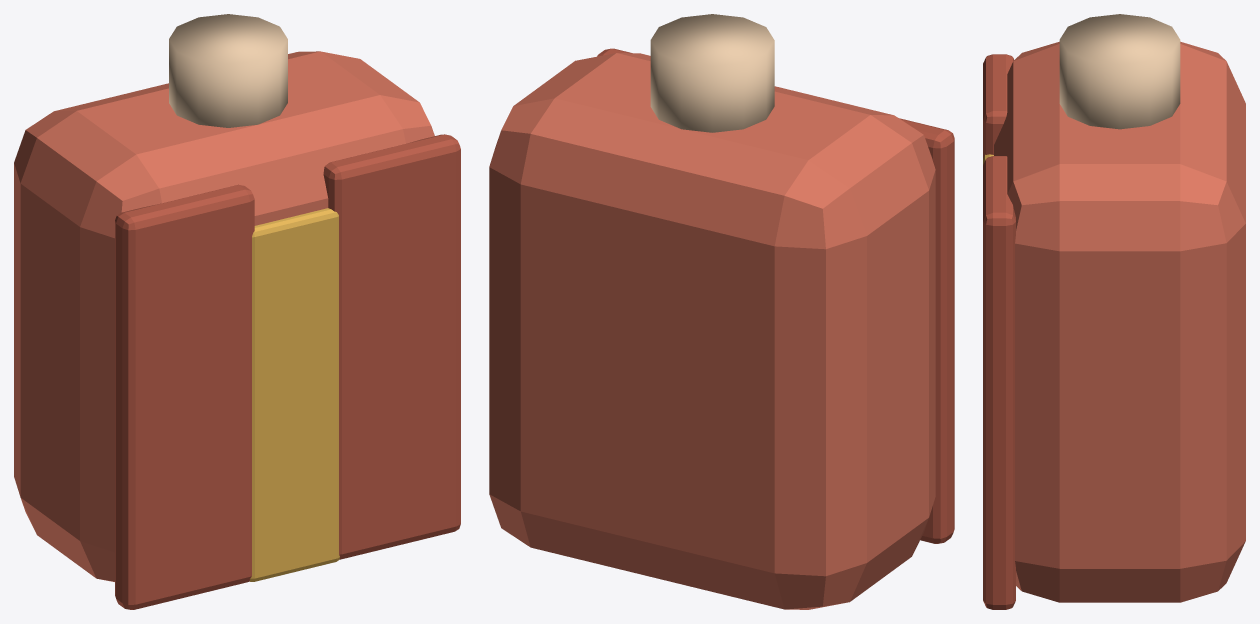
File: fig_torso_jacket.glb
The picture shows the model from 3 angles, left to right: view 1: azimuth 30°, elevation 25°; view 2: azimuth 150°, elevation 25°; view 3: azimuth 270°, elevation 25°; orthographic projection. The views are drawn at different scales.
Parts seen in each view (by area): view 1: cloth_body, cloth2_lapel, cloth2_lapel.001, accent_inner, skin_neck; view 2: cloth_body, skin_neck, cloth2_lapel; view 3: cloth_body, cloth2_lapel.001, skin_neck, cloth2_lapel.
Boxes of the visible parts, x1,y1,x2,y2 form: cloth_body: (14,51,434,581); cloth2_lapel: (115,184,254,609); cloth2_lapel.001: (323,134,460,559); accent_inner: (249,208,339,581); skin_neck: (169,14,287,127); cloth_body: (489,53,935,609); skin_neck: (650,14,774,132); cloth2_lapel: (899,118,954,543); cloth_body: (994,41,1245,602); cloth2_lapel.001: (983,156,1015,609); skin_neck: (1059,14,1180,129); cloth2_lapel: (983,54,1013,158).
Bounding box in the file's own units: 0.38 × 0.505 × 0.24.
